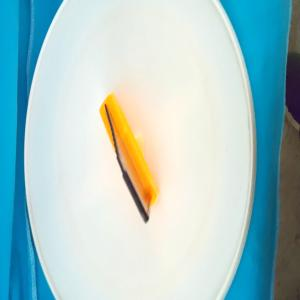serrote: (99, 91, 161, 225)
